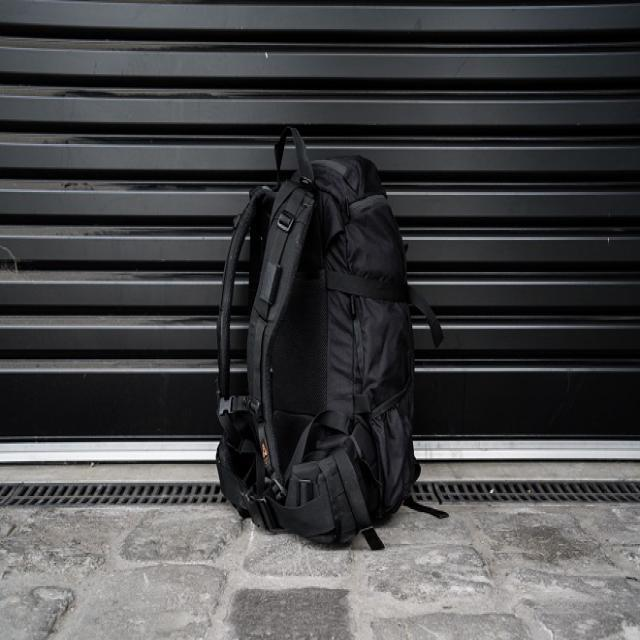Backpacks: (216, 124, 419, 554)
